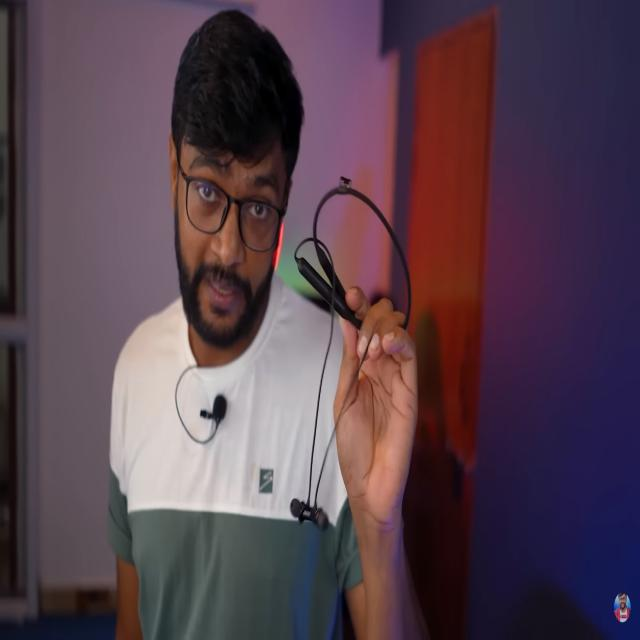Neckband: (290, 173, 412, 532)
